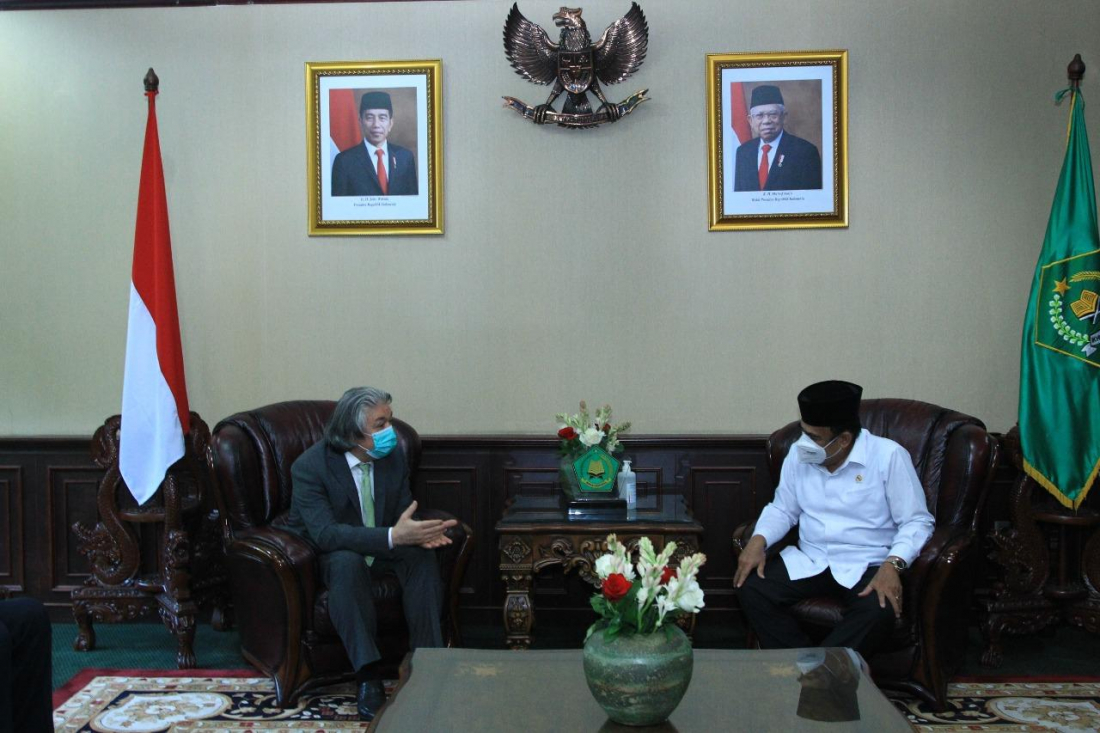foto: (704, 47, 854, 235), (302, 58, 447, 240)
meja: (489, 492, 709, 632)
sova: (762, 396, 999, 679), (208, 402, 457, 668)
tanaman: (562, 535, 705, 729)
